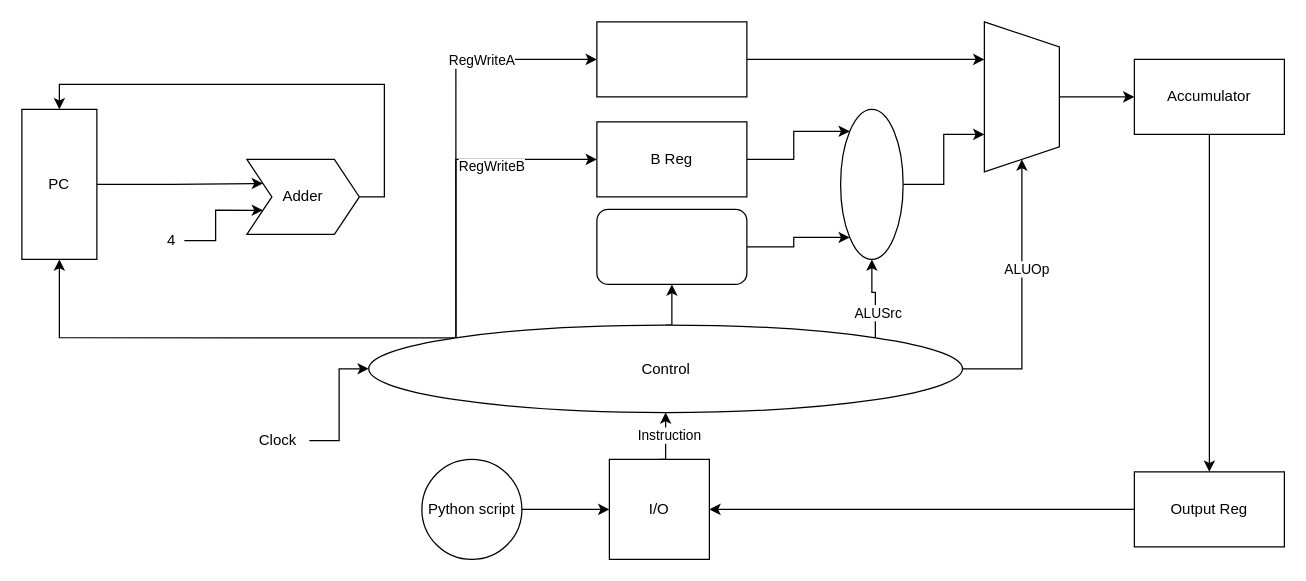
The diagram is 1306 pixels wide and 581 high, and some of its shapes have lost their labels. Each missing label, with the centre of its shape:
"A Reg" belongs at pixel 671 59.
"ALU" belongs at pixel 1021 96.
"Immediate Value" belongs at pixel 671 246.
"MUX" belongs at pixel 871 183.
